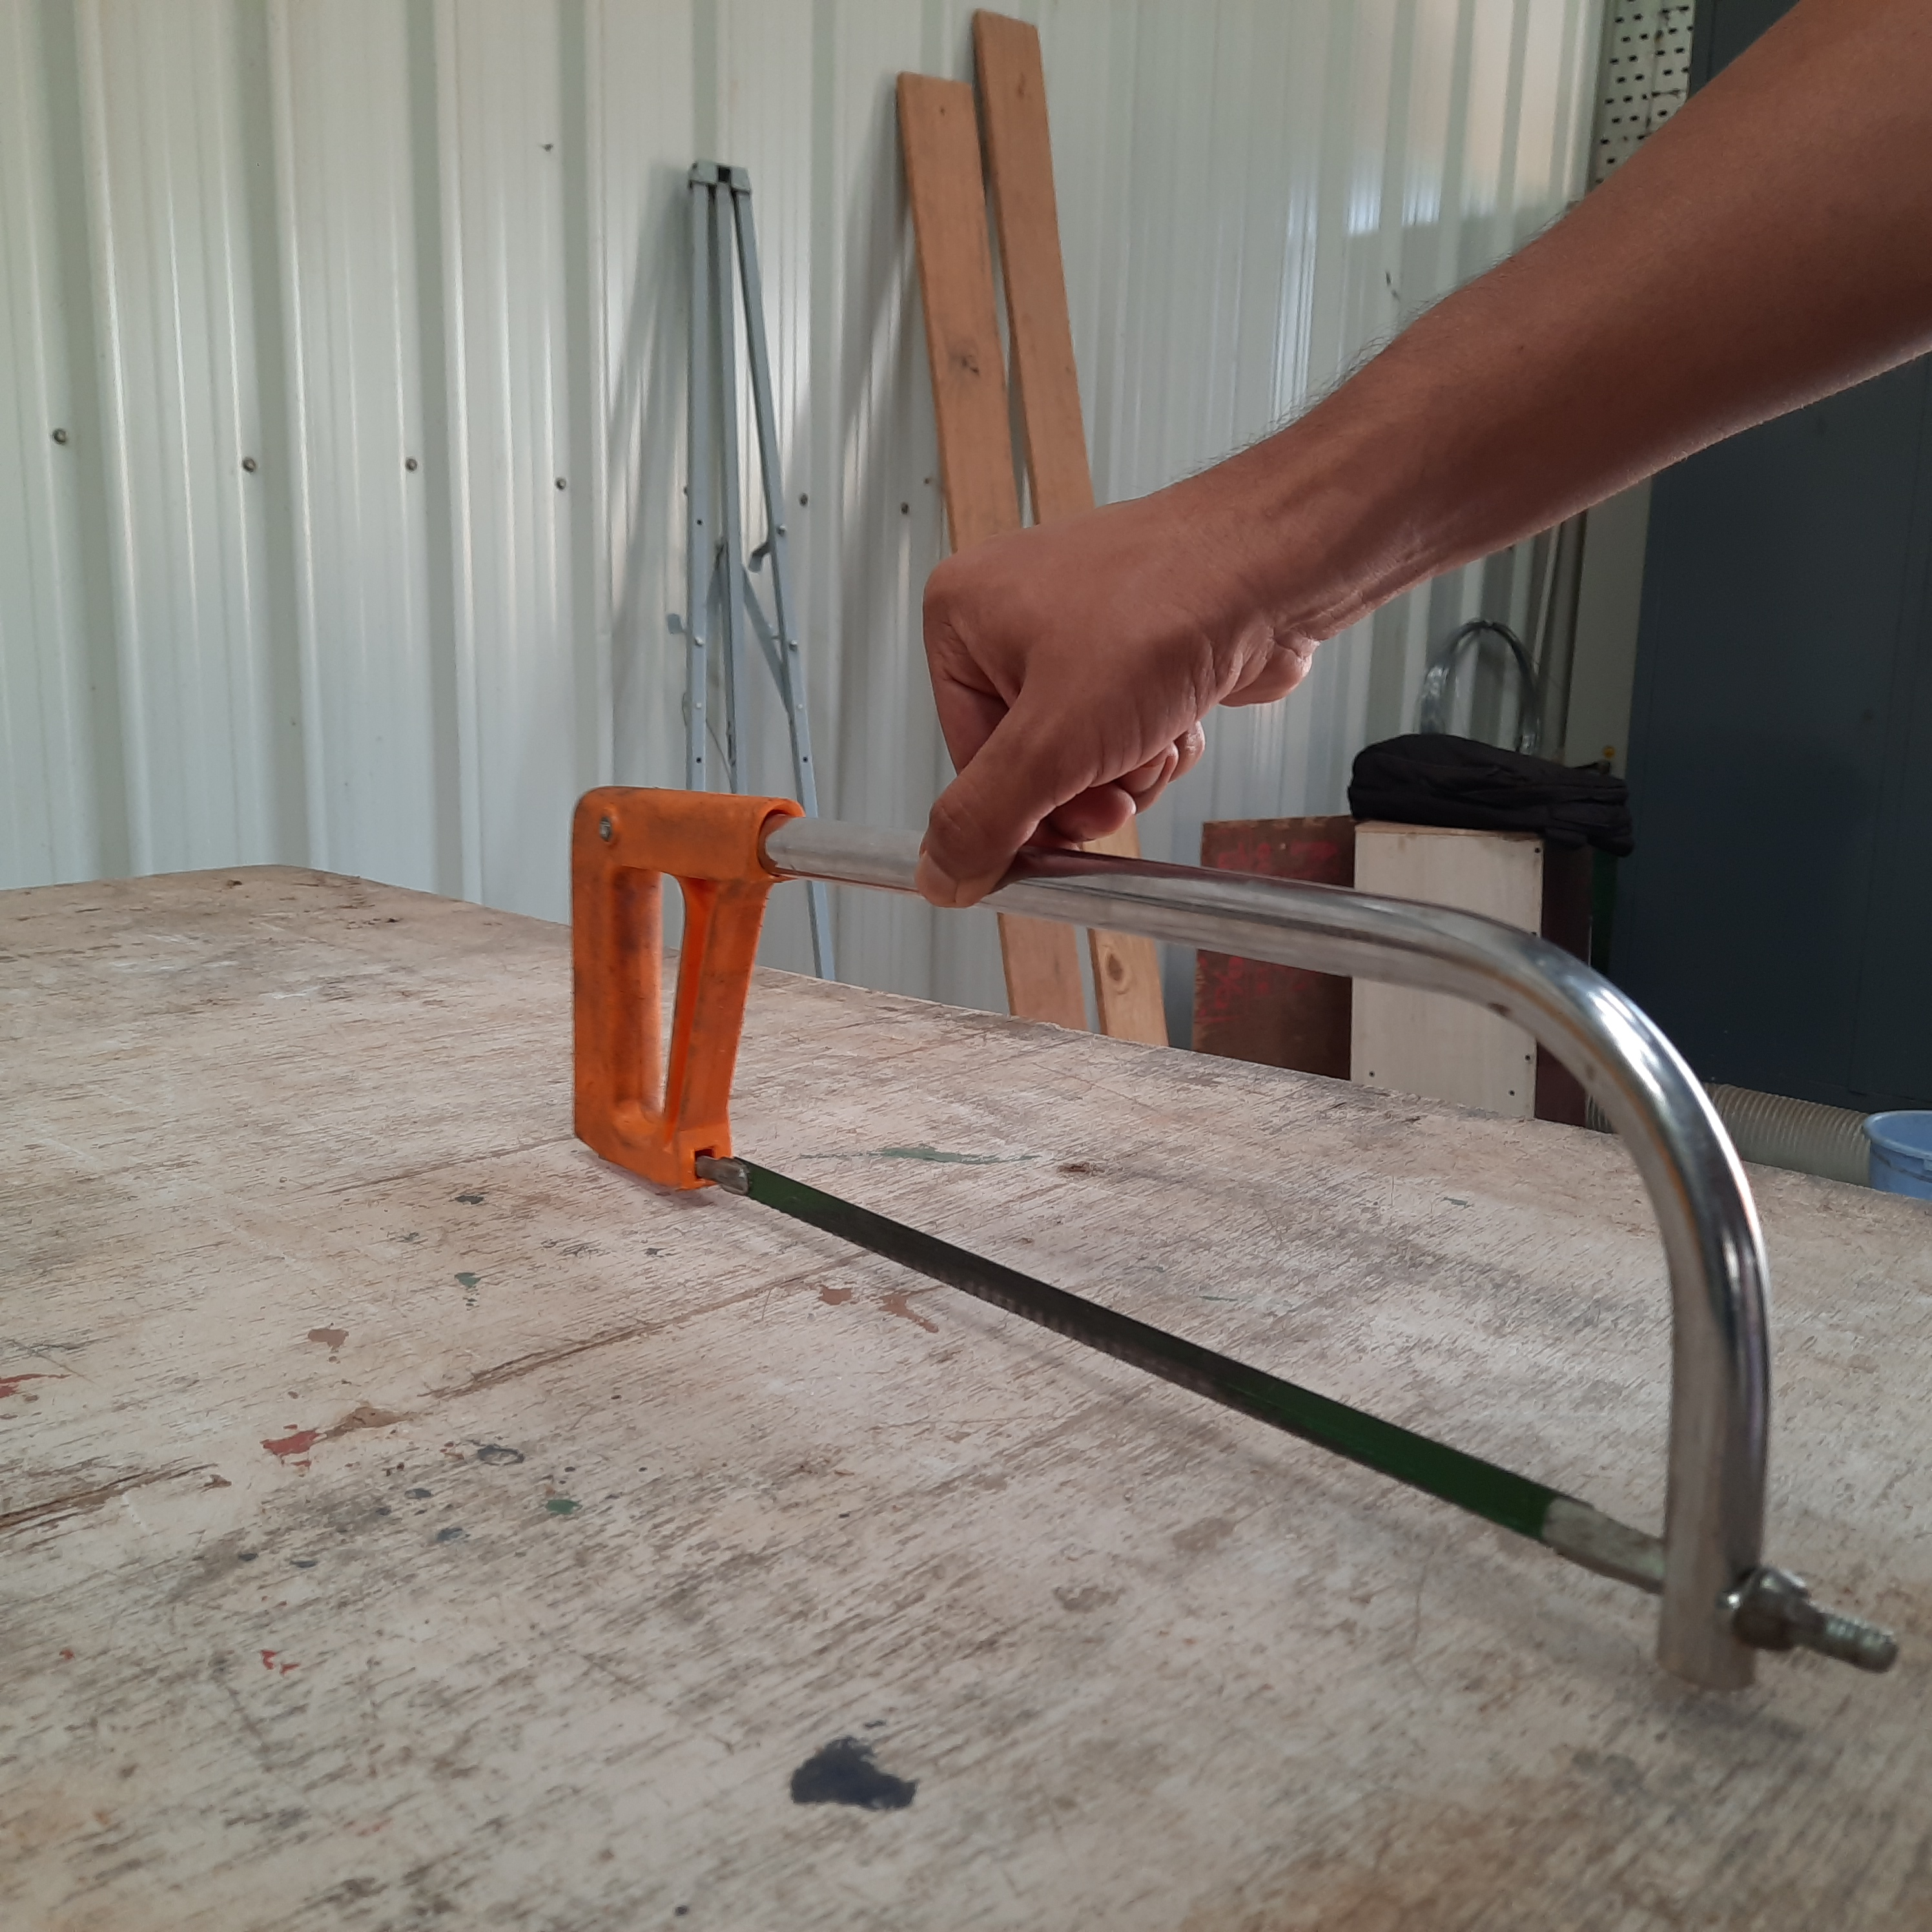Hexaframe: (513, 722, 1902, 1683)
